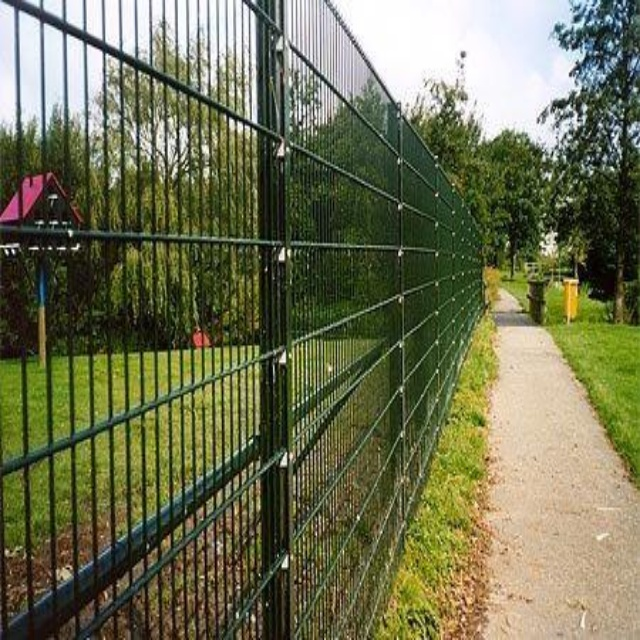obstacle: (12, 20, 640, 525)
